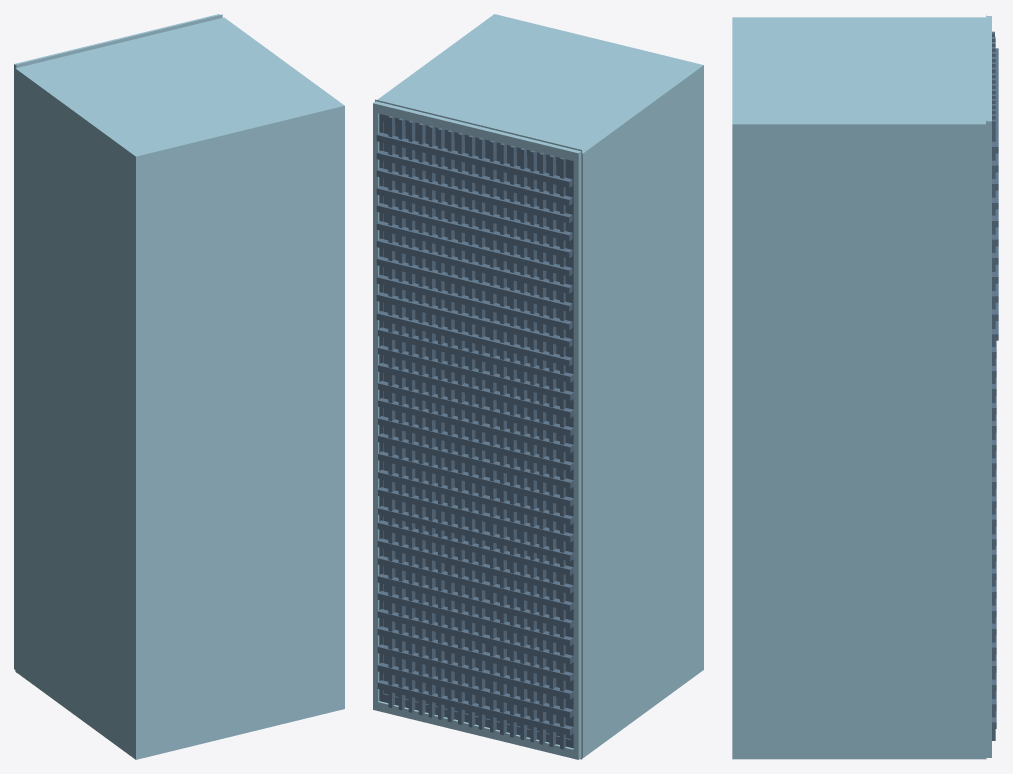
The model's file is biru_1.fbx.
3 views of the same model, side by side, from view 1: azimuth 30°, elevation 25°; view 2: azimuth 150°, elevation 25°; view 3: azimuth 270°, elevation 25° (orthographic). The views are drawn at different scales.
Parts seen in each view (by area): view 1: Cube, WindowFrame; view 2: Cube, Plane.026, Window.L, Plane.021, Plane.000, Plane.001, WindowFrame; view 3: Cube, WindowFrame, Plane.021, Plane.026, Plane.000, Plane.001.
Boxes of the visible parts, x1,y1,x2,y2 form: Cube: (15, 17, 344, 759); WindowFrame: (14, 14, 222, 672); Cube: (374, 14, 703, 758); Plane.026: (388, 116, 565, 749); Window.L: (379, 114, 573, 748); Plane.021: (376, 132, 572, 366); Plane.000: (378, 327, 573, 561); Plane.001: (377, 520, 573, 735); WindowFrame: (373, 99, 582, 759); Cube: (732, 17, 985, 759); WindowFrame: (986, 14, 991, 759); Plane.021: (992, 48, 998, 340); Plane.026: (992, 31, 995, 740); Plane.000: (992, 340, 996, 545); Plane.001: (992, 546, 996, 728).
Bounding box in the file's own units: 200 × 556 × 210.
